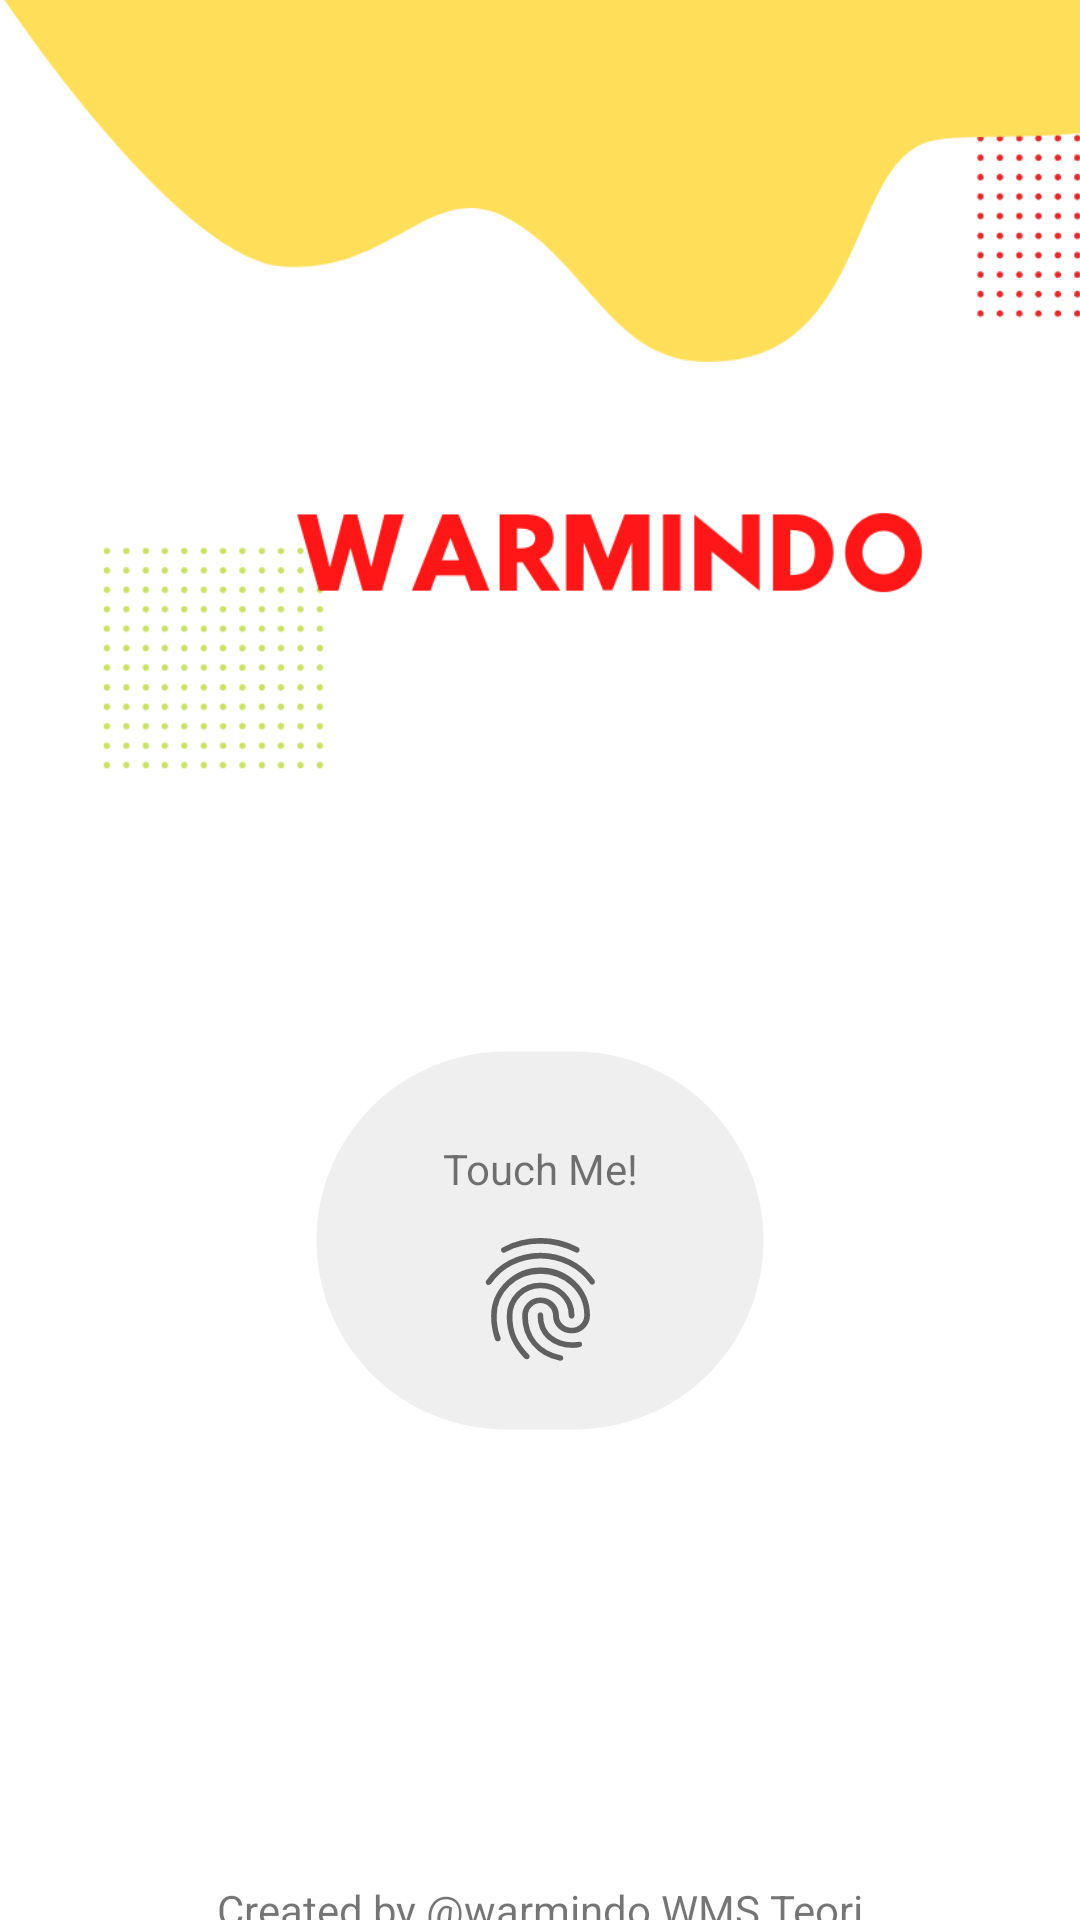

Icon click points for this 1080px×1920px phone screenshot, format [x,y]:
fingerprint: [540,1299]
